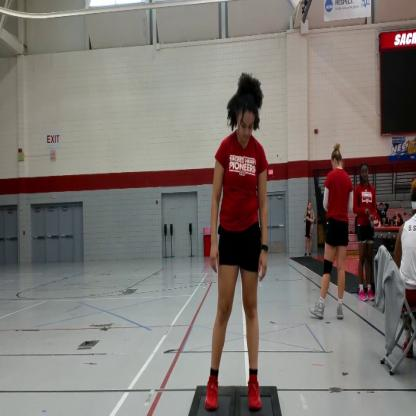lateral_flexion_normal: (202, 70, 269, 416)
stance_width_normal: (202, 126, 270, 416)
